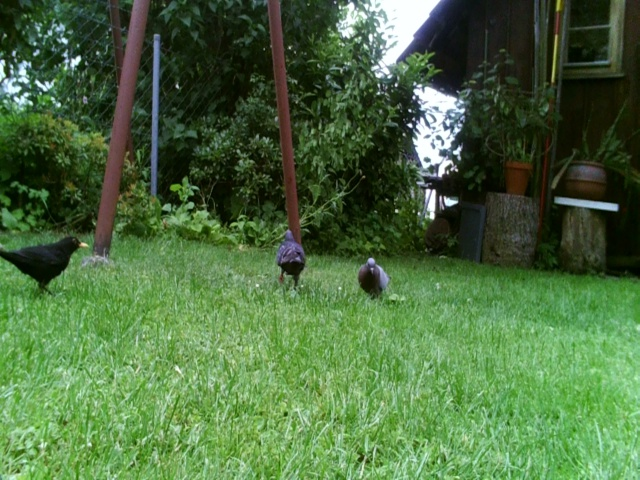Pigeon: (263, 225, 310, 285), (354, 250, 399, 304)
